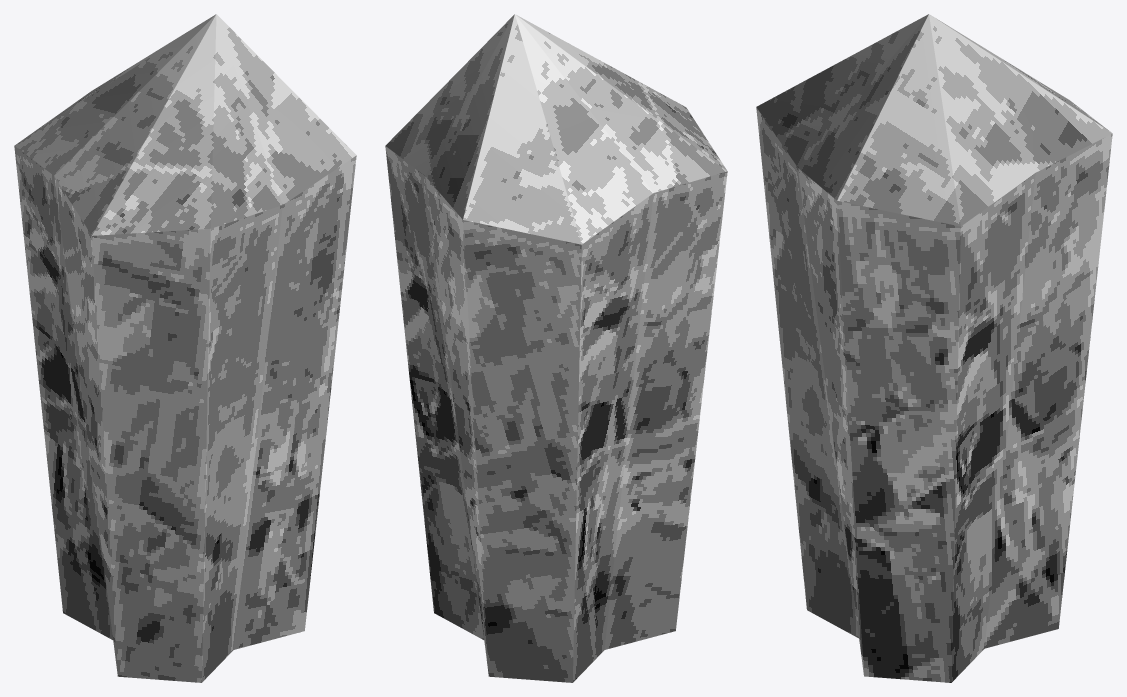
Rendered from big_crystal.glb.
3 views of the same model, side by side, from view 1: azimuth 30°, elevation 25°; view 2: azimuth 150°, elevation 25°; view 3: azimuth 270°, elevation 25° (orthographic). The views are drawn at different scales.
Visible parts, largest first — view 1: Cylinder; view 2: Cylinder; view 3: Cylinder.
Part boxes in pixels (x1,y1,x2,y2): Cylinder: (14, 14, 356, 682); Cylinder: (385, 14, 727, 682); Cylinder: (756, 14, 1112, 682).
Bounding box in the file's own units: 2.62 × 5.38 × 2.75.
1 material, 1 textured.
